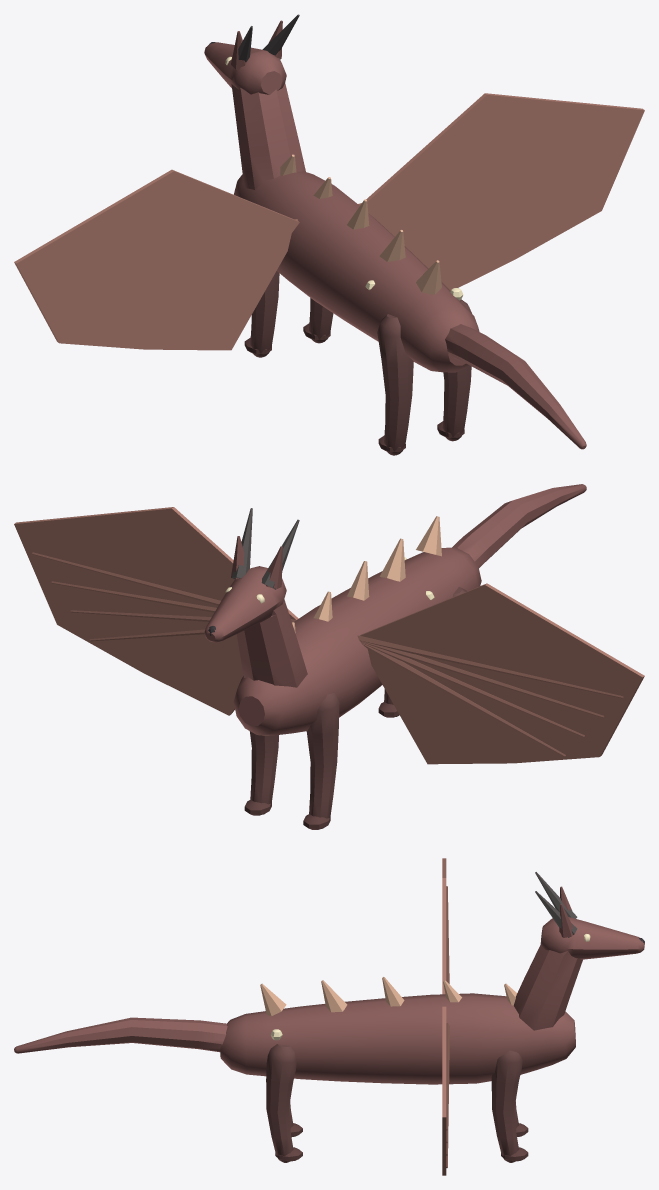
The model's file is cinderwyrm.gltf.
3 views of the same model, one above another, from view 1: azimuth 30°, elevation 25°; view 2: azimuth 150°, elevation 25°; view 3: azimuth 270°, elevation 25° (orthographic). The views are drawn at different scales.
Visible parts, largest first — view 1: FlapL, Body, FlapR, SwingB2, SwingA2, SwingA1, SwingB1; view 2: FlapL, Body, FlapR, SwingA1, SwingB1; view 3: Body, SwingA2, SwingB1, FlapR, FlapL.
Boxes of the visible parts, x1=… form: FlapL: x1=14, y1=169, x2=299, y2=350; Body: x1=204, y1=14, x2=586, y2=449; FlapR: x1=358, y1=93, x2=644, y2=290; SwingB2: x1=377, y1=314, x2=413, y2=455; SwingA2: x1=437, y1=299, x2=471, y2=441; SwingA1: x1=244, y1=271, x2=279, y2=357; SwingB1: x1=303, y1=298, x2=333, y2=343; FlapL: x1=357, y1=583, x2=644, y2=764; Body: x1=204, y1=484, x2=586, y2=735; FlapR: x1=14, y1=507, x2=298, y2=715; SwingA1: x1=303, y1=692, x2=339, y2=829; SwingB1: x1=244, y1=731, x2=278, y2=815; Body: x1=14, y1=872, x2=644, y2=1084; SwingA2: x1=266, y1=1044, x2=302, y2=1162; SwingB1: x1=491, y1=1050, x2=528, y2=1162; FlapR: x1=442, y1=1006, x2=449, y2=1175; FlapL: x1=442, y1=858, x2=449, y2=994.
Size of the model in its own units: 4.82 by 2.33 by 4.97.
